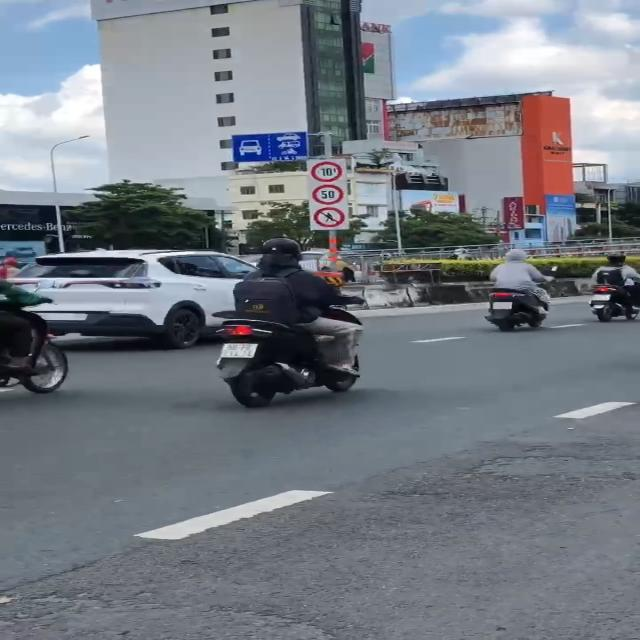Bien bao cam nguoi di bo: (313, 205, 350, 231)
Bien bao toc do toi da cho phep: (308, 182, 350, 205)
